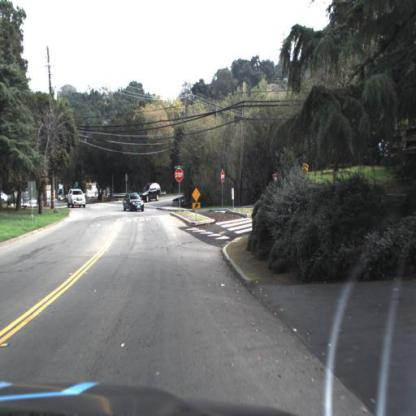car: (121, 189, 148, 218), (66, 186, 90, 213), (138, 183, 165, 206)
